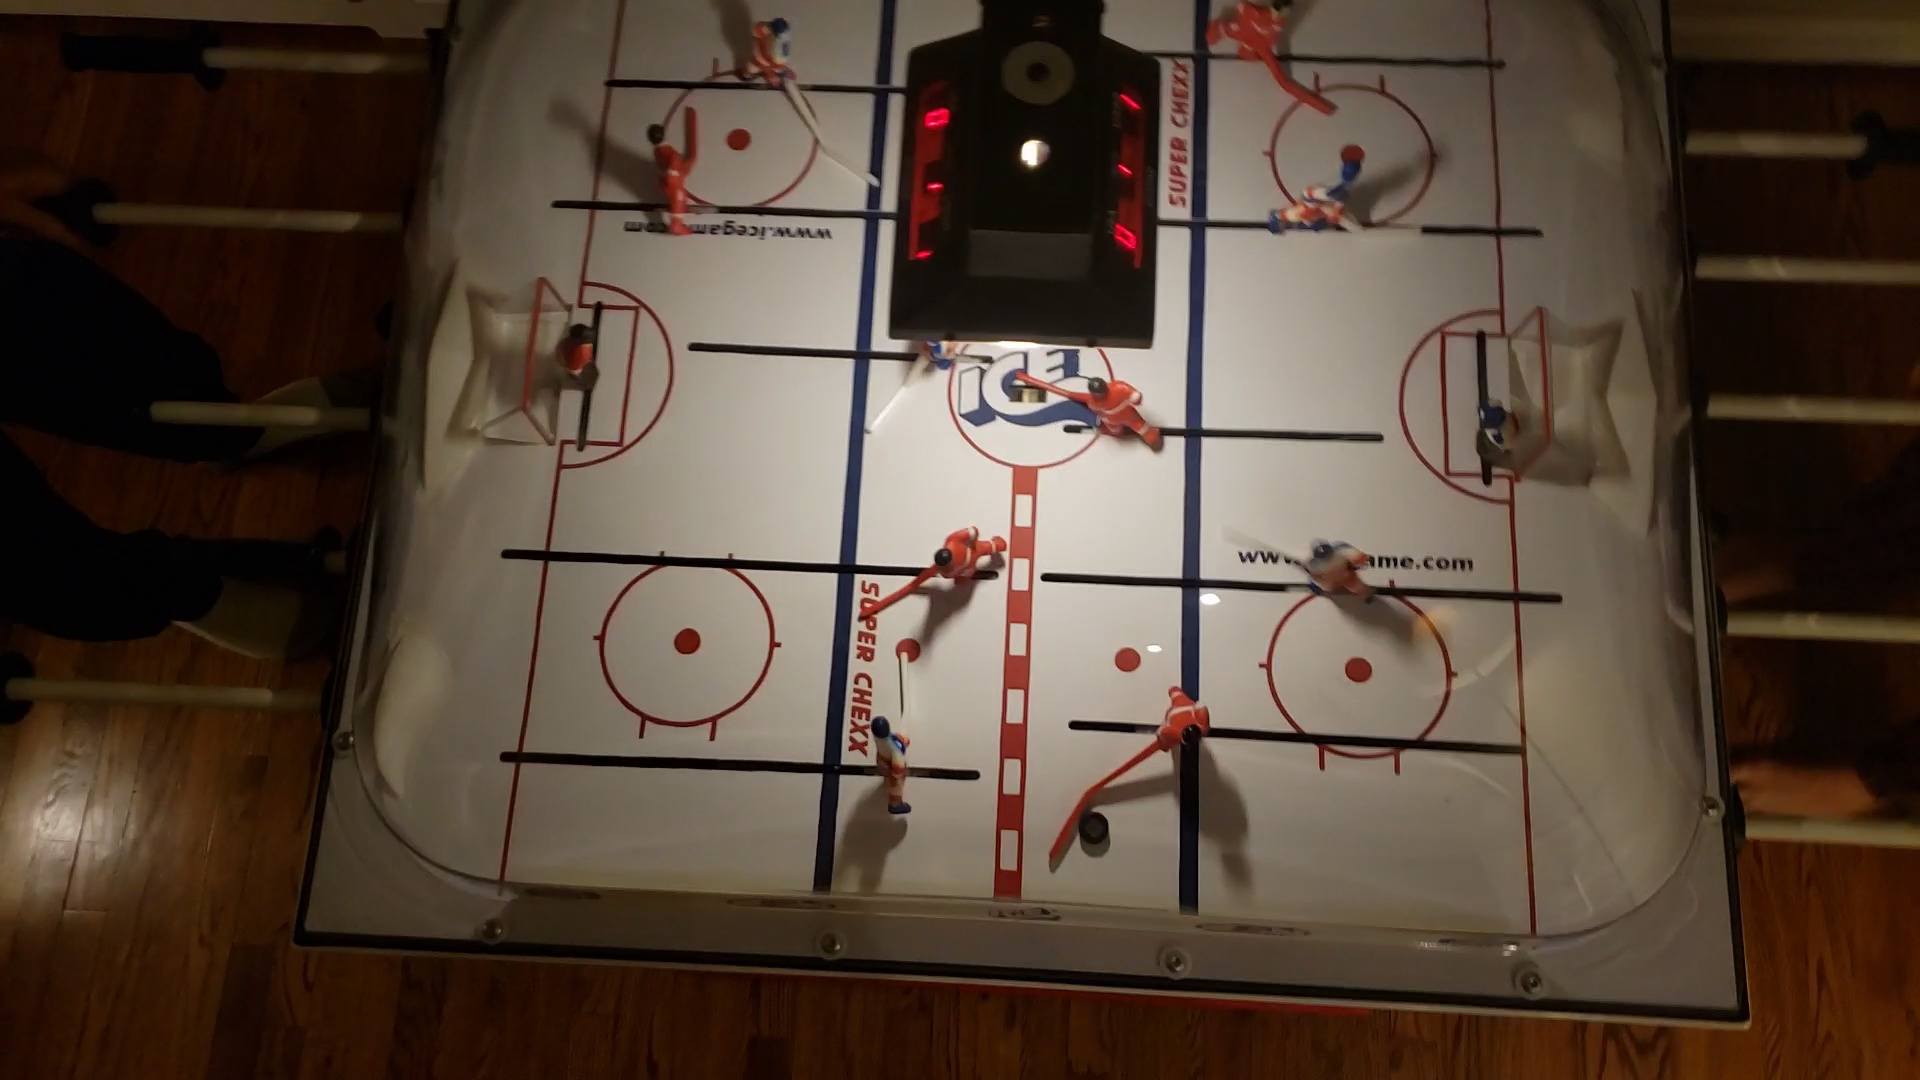puck: (1079, 812, 1116, 849)
